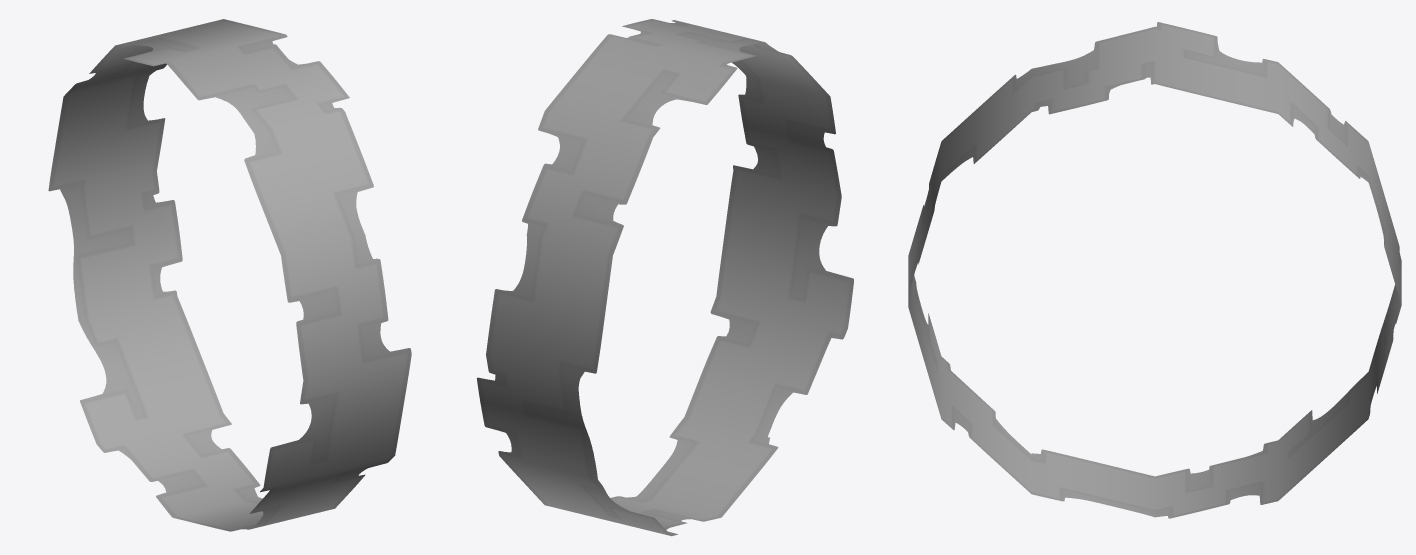
The model's file is lanceeffects_in_01.fbx.
3 views of the same model, side by side, from view 1: azimuth 30°, elevation 25°; view 2: azimuth 150°, elevation 25°; view 3: azimuth 270°, elevation 25° (orthographic).
Parts seen in each view (by area): view 1: ranceeffect_in_mesh01; view 2: ranceeffect_in_mesh01; view 3: ranceeffect_in_mesh01.
Part boxes in pixels (x1,y1,x2,y2): ranceeffect_in_mesh01: (48,19,411,531); ranceeffect_in_mesh01: (476,19,853,536); ranceeffect_in_mesh01: (908,22,1401,518).
Bounding box in the file's own units: 25.44 × 66.24 × 66.24.
1 material, 1 textured.
